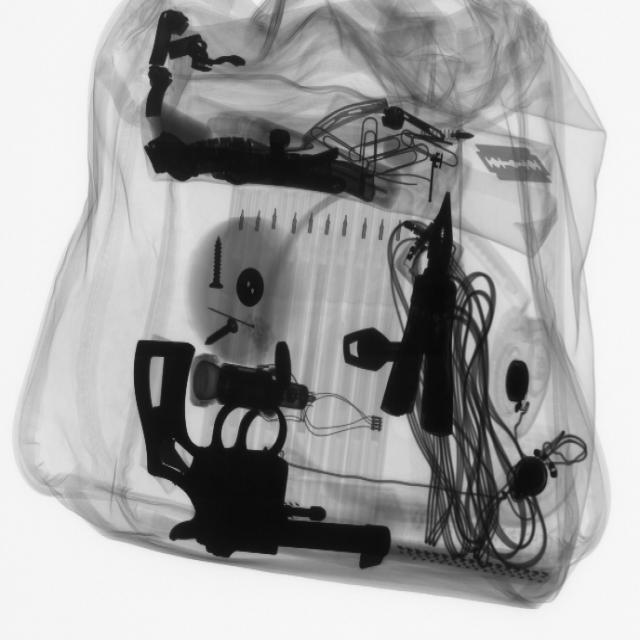BLADE: (472, 134, 559, 192)
GUN: (126, 337, 396, 567)
SCREW: (190, 227, 246, 297), (196, 302, 248, 357)
